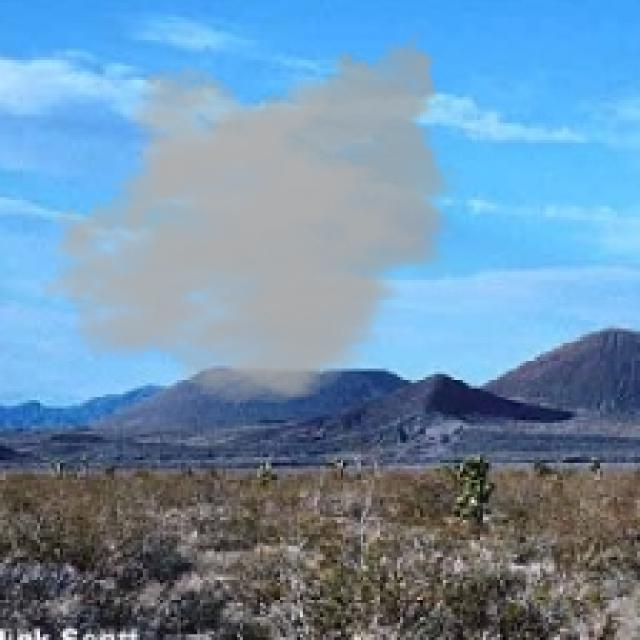smoke: (37, 26, 463, 406)
